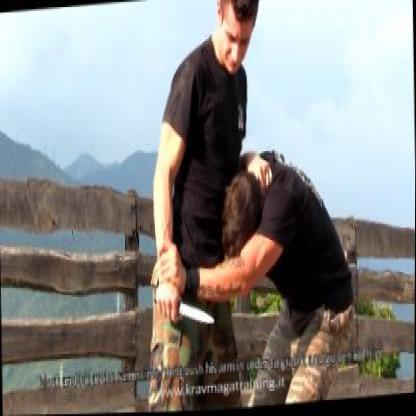knife: (150, 278, 216, 334)
